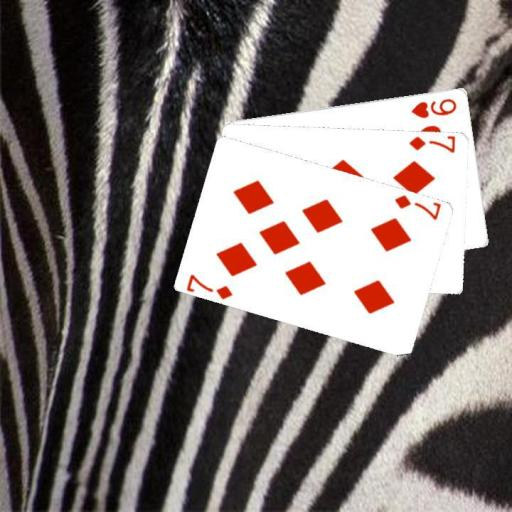7D: (391, 191, 442, 221), (184, 270, 235, 300), (406, 133, 457, 154)
9H: (408, 95, 459, 120)
